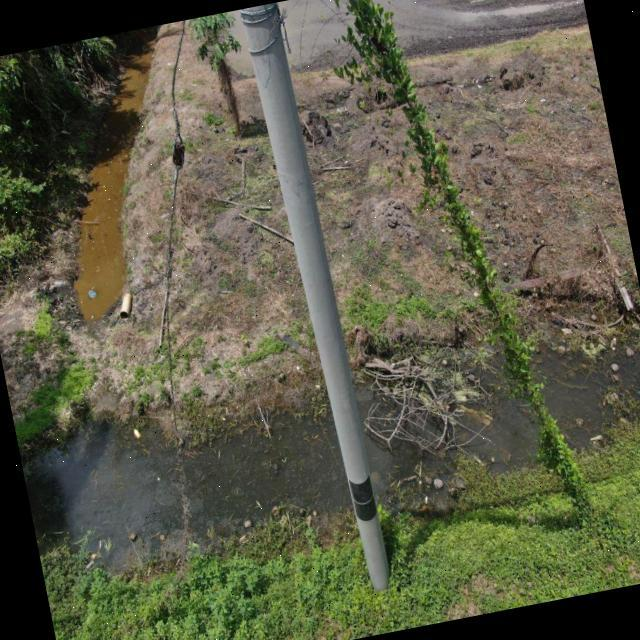critical vegetation: (317, 0, 619, 569)
